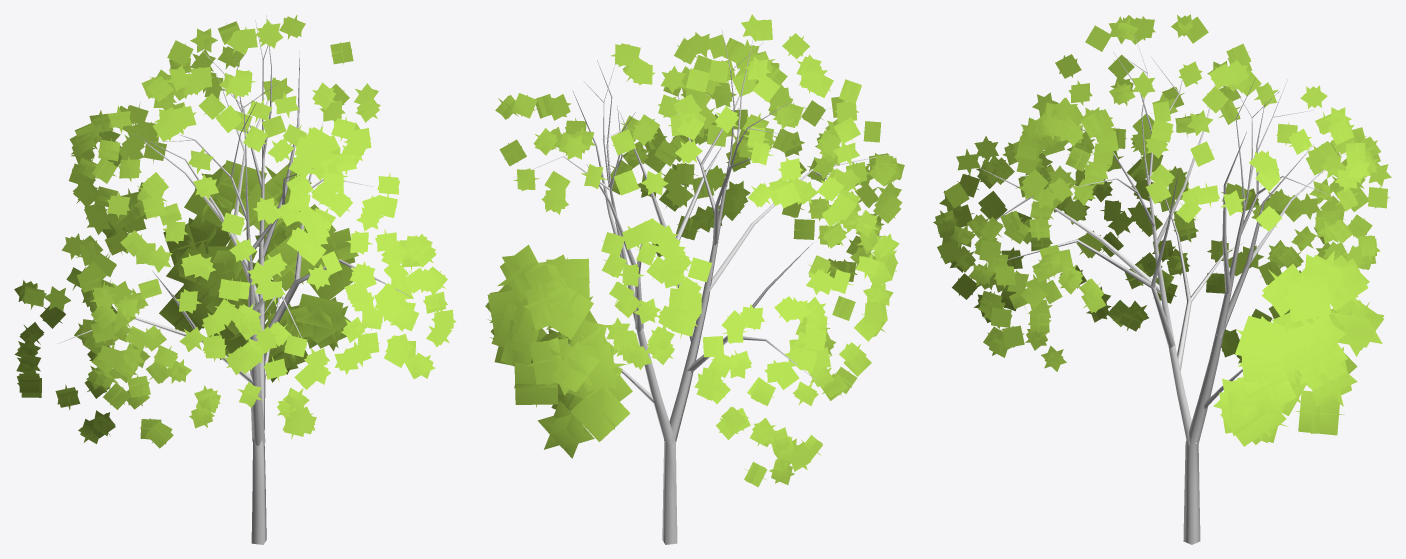
The model's file is tree02.fbx.
3 renders of one model, left to right at view 1: azimuth 30°, elevation 25°; view 2: azimuth 150°, elevation 25°; view 3: azimuth 270°, elevation 25°, orthographic. The views are drawn at different scales.
Parts seen in each view (by area): view 1: leaves, trunk; view 2: leaves, trunk; view 3: leaves, trunk.
Boxes of the visible parts, left/top/right/bottom form: leaves: left=14, top=14, right=456, bottom=448; trunk: left=57, top=15, right=410, bottom=544; leaves: left=485, top=14, right=904, bottom=486; trunk: left=513, top=29, right=890, bottom=544; leaves: left=933, top=14, right=1391, bottom=446; trunk: left=979, top=35, right=1340, bottom=544.
Size of the model in its own units: 443 by 650 by 543.
